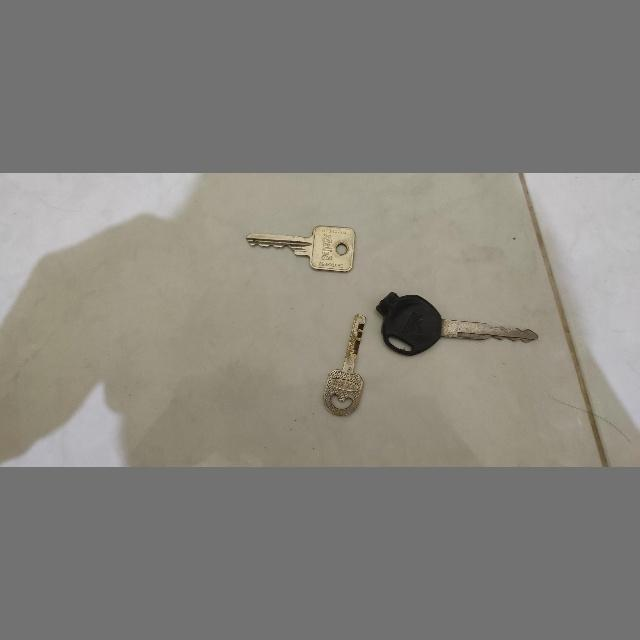Keys: (368, 290, 540, 358), (242, 222, 358, 274), (318, 312, 370, 420)
